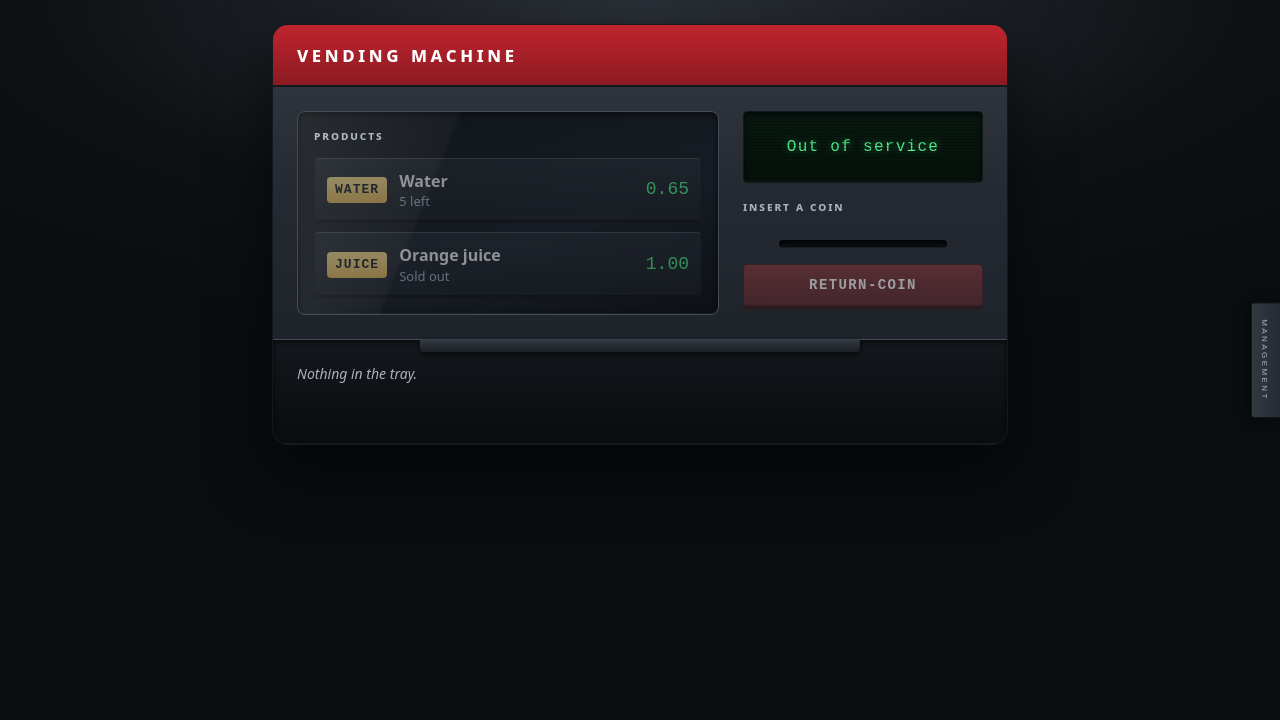
Test: MachinePage › when the acceptor has been switched off › leaves the technician a way back in
This screenshot has width=1280, height=720.
Expected: the button "WATER Water 0.65 5 left" is shown, x1=314 y1=157 x2=702 y2=223
What coordinates should you click on to do the following:
click the button "Management"
I would click on:
 (1266, 360)
Its box is x1=1251 y1=302 x2=1279 y2=418.
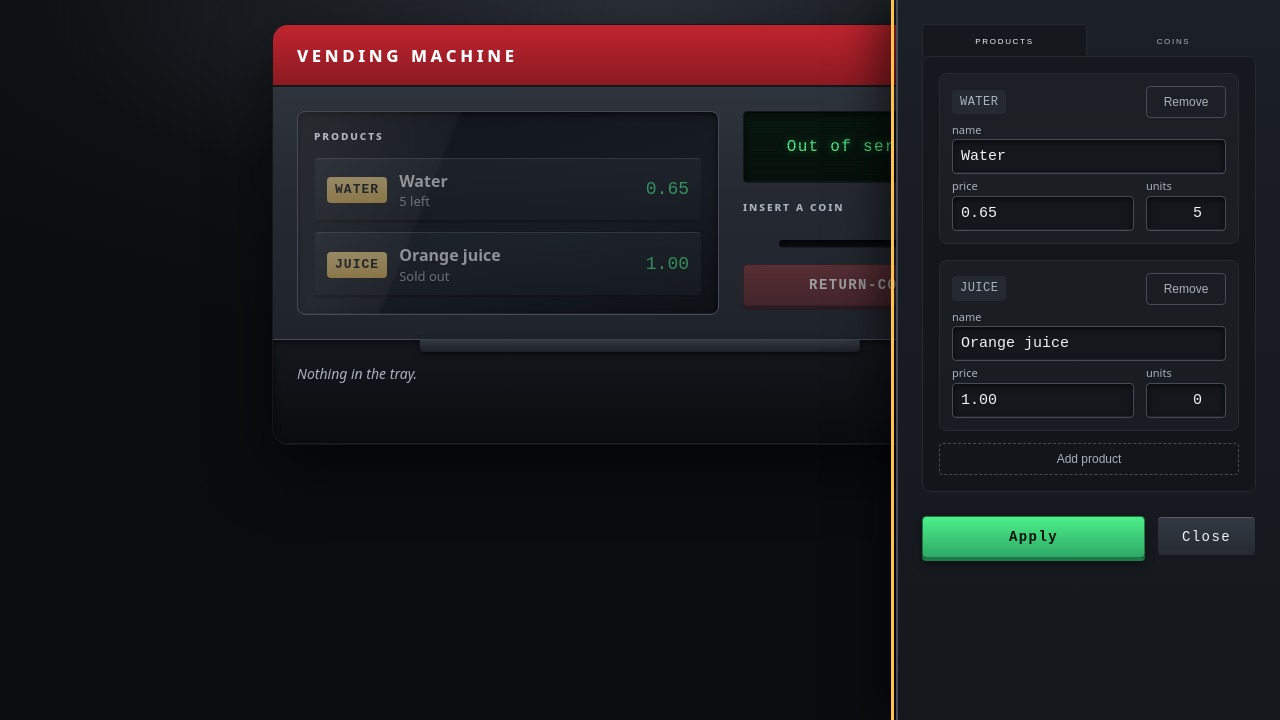
What coordinates should you click on to do the following:
click the tab "Coins"
I would click on:
 (1174, 40)
Its box is x1=1091 y1=24 x2=1256 y2=56.
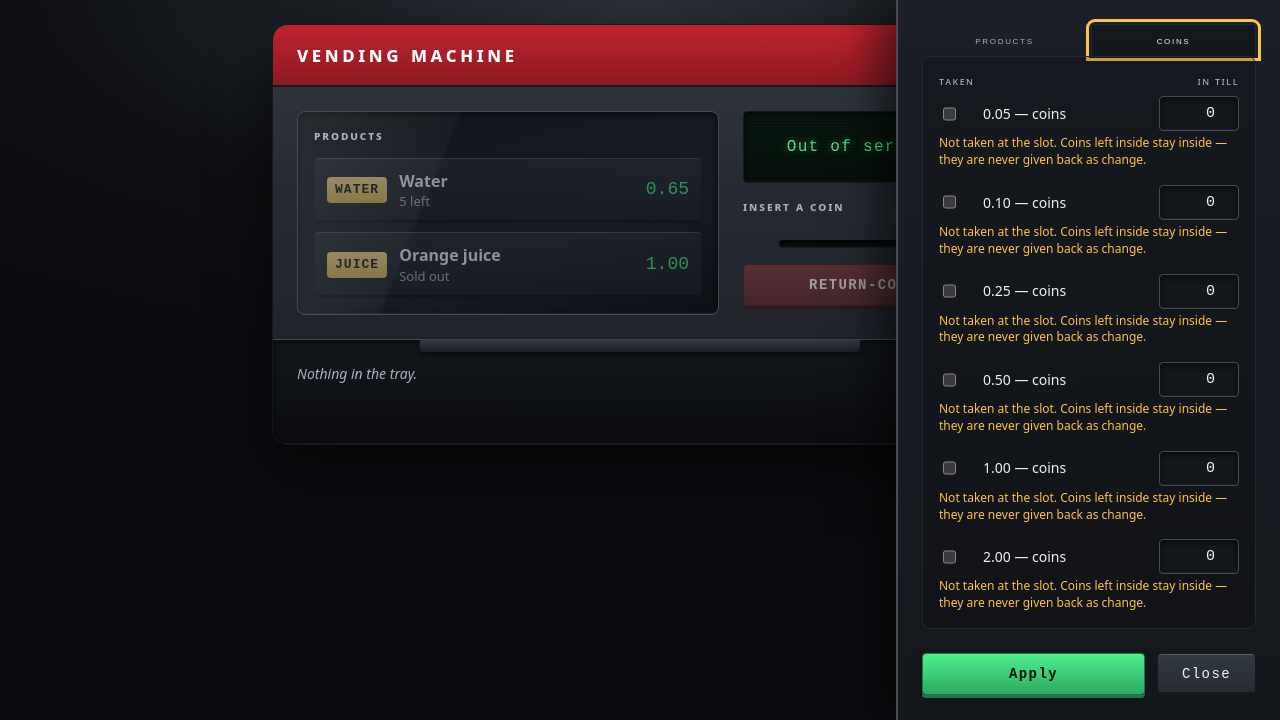
Expected: the dialog named "Management" is shown, x1=896 y1=0 x2=1279 y2=719
Expected: the checkbox named "0.25 — accepted" next to "0.25 — coins" is enabled, x1=943 y1=282 x2=956 y2=300
